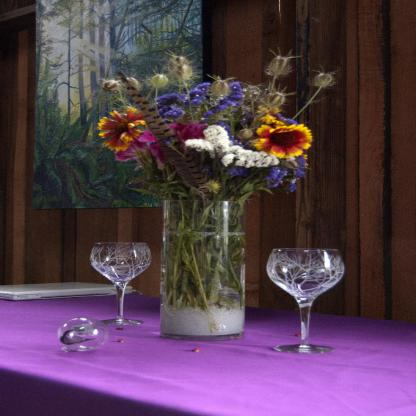vase: (160, 200, 246, 342)
